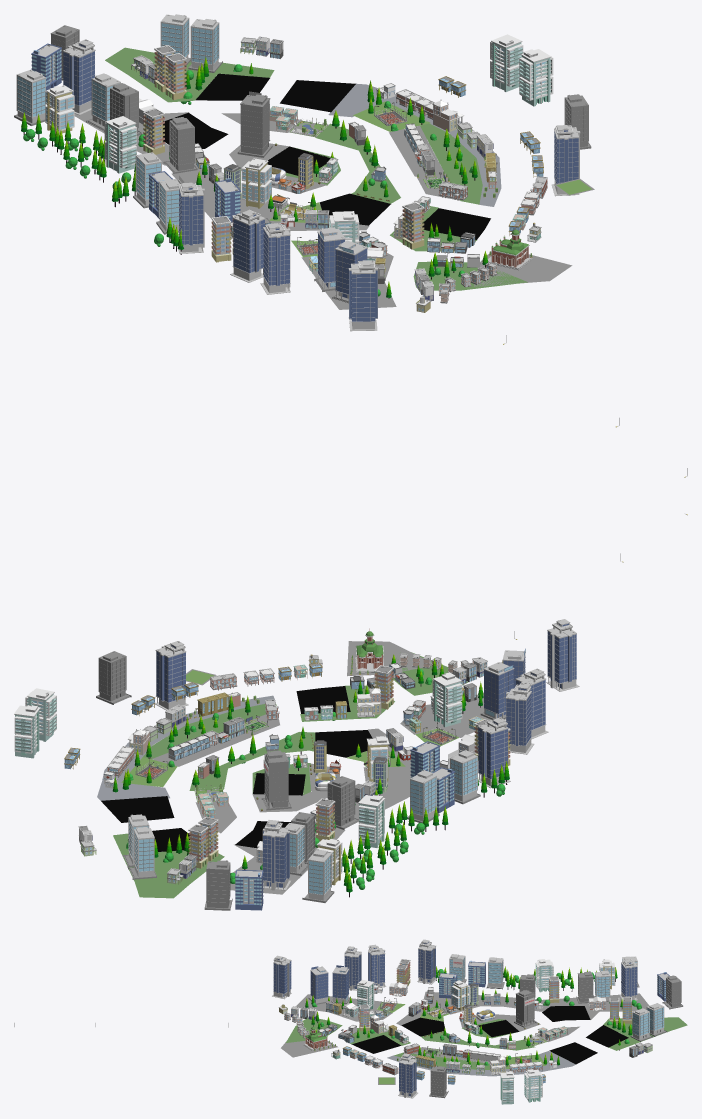
Rendered from city02.fbx.
The picture shows the model from 3 angles, top to bottom: view 1: azimuth 30°, elevation 25°; view 2: azimuth 150°, elevation 25°; view 3: azimuth 270°, elevation 25°; orthographic projection. The views are drawn at different scales.
Parts seen in each view (by area): view 1: bench.002; view 2: bench.002; view 3: bench.002.
Part boxes in pixels (<box>): bench.002: <box>14,14,687,477</box>; bench.002: <box>14,514,687,910</box>; bench.002: <box>14,939,687,1104</box>.
Size of the model in its own units: 30148 by 13718 by 2416.
